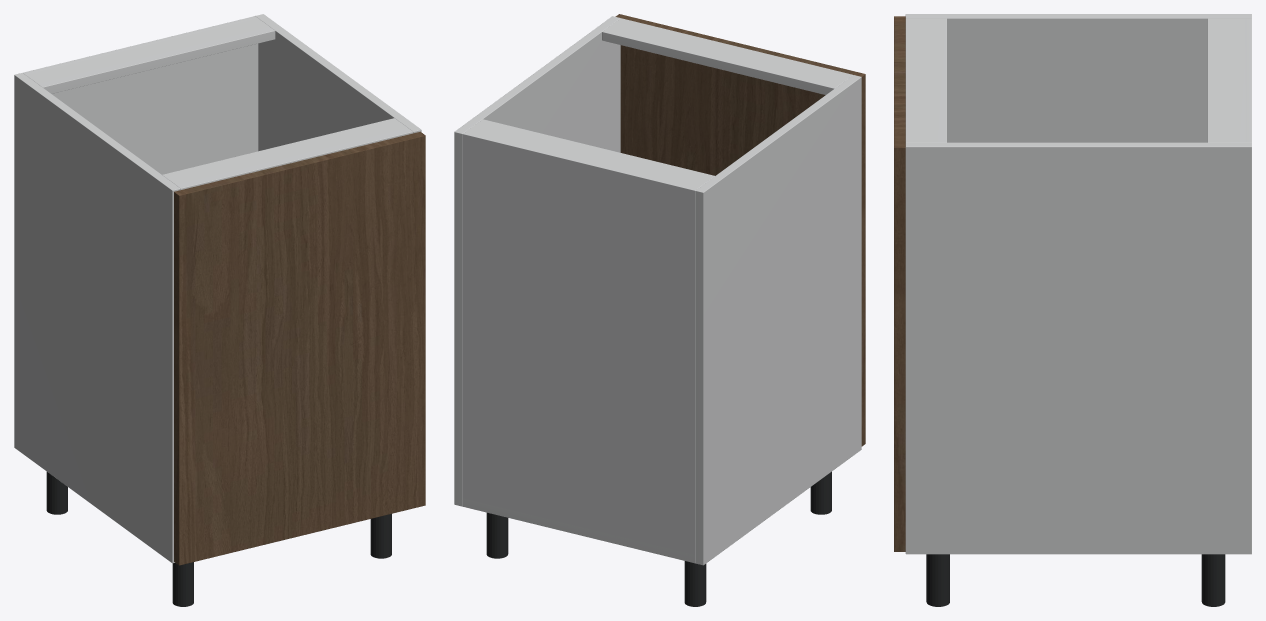
The model's file is oppein-pb-mso-b21fh.glb.
The picture shows the model from 3 angles, left to right: view 1: azimuth 30°, elevation 25°; view 2: azimuth 150°, elevation 25°; view 3: azimuth 270°, elevation 25°; orthographic projection. The views are drawn at different scales.
Visible parts, largest first — view 1: Door, Cabinet side, Cabinet back, Cabinet side.001, Top support rail, Top support rail.001, Adjustable foot.001, Adjustable foot.003, Adjustable foot; view 2: Cabinet back, Cabinet side, Door, Cabinet side.001, Top support rail.001, Top support rail, Cabinet bottom, Adjustable foot, Adjustable foot.002, Adjustable foot.001; view 3: Cabinet side.001, Cabinet side, Door, Top support rail.001, Top support rail, Adjustable foot.002, Adjustable foot.003, Cabinet back.
Part boxes in pixels (x1,y1,x2,y2): Door: [174, 131, 425, 565]; Cabinet side: [14, 73, 180, 563]; Cabinet back: [23, 16, 258, 174]; Cabinet side.001: [255, 14, 421, 151]; Top support rail: [24, 18, 275, 93]; Top support rail.001: [162, 118, 413, 189]; Adjustable foot.001: [172, 562, 193, 606]; Adjustable foot.003: [370, 514, 391, 558]; Adjustable foot: [46, 472, 67, 514]; Cabinet back: [462, 132, 697, 563]; Cabinet side: [695, 75, 861, 565]; Door: [615, 14, 865, 446]; Cabinet side.001: [454, 16, 620, 506]; Top support rail.001: [602, 18, 852, 94]; Top support rail: [466, 119, 714, 188]; Cabinet bottom: [462, 498, 694, 562]; Adjustable foot: [684, 561, 706, 606]; Adjustable foot.002: [486, 512, 508, 558]; Adjustable foot.001: [810, 471, 831, 514]; Cabinet side.001: [905, 142, 1251, 554]; Cabinet side: [905, 14, 1251, 142]; Door: [894, 16, 905, 551]; Top support rail.001: [905, 18, 946, 142]; Top support rail: [1207, 18, 1245, 142]; Adjustable foot.002: [1201, 554, 1225, 606]; Adjustable foot.003: [926, 554, 949, 606]; Cabinet back: [1245, 18, 1251, 142].
Bounding box in the file's own units: 0.5334 × 0.8763 × 0.6064.
Materials: 3 (1 with a texture image).
